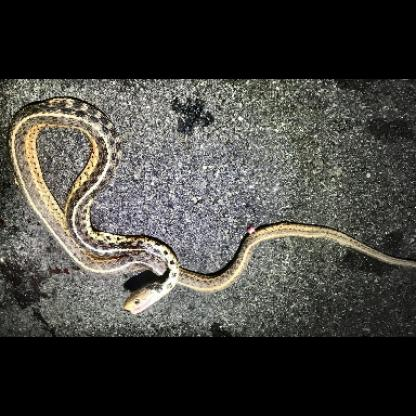Snake: (10, 94, 390, 315)
